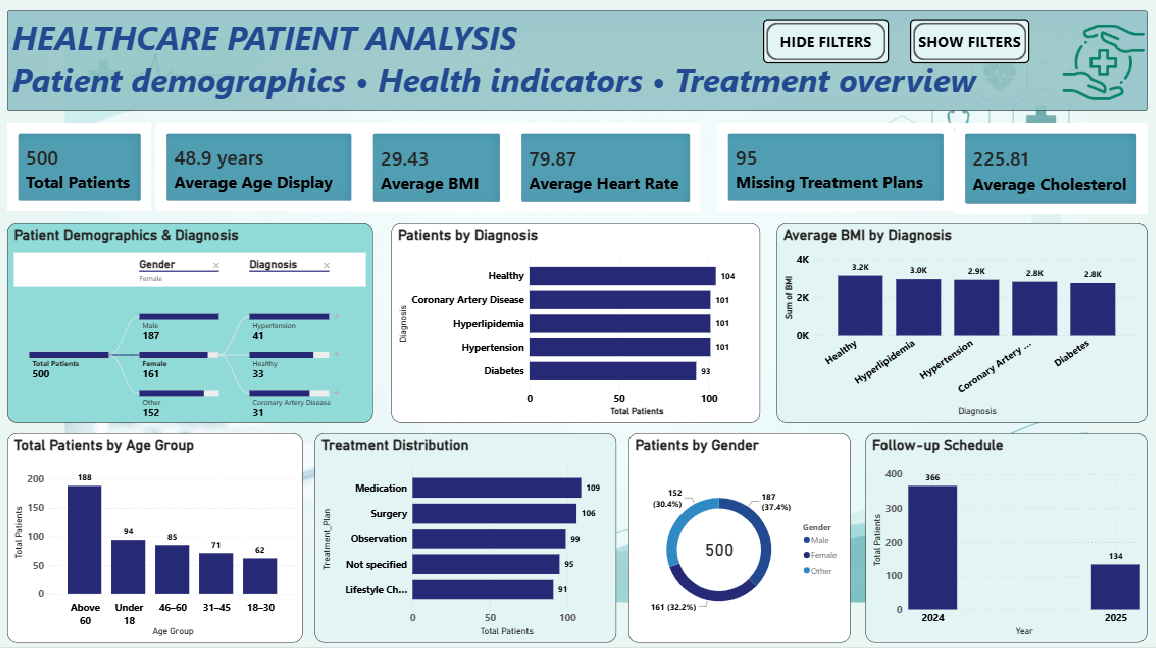

The dashboard page shown, as its layout file describes it:
{"tool":"powerbi","page":{"name":"Page 1","canvas":[1920,1080],"ordinal":0},"visuals":[{"type":"cardVisual","fields":{"Data":["healthcare_dataset.Total Patients"]},"box":[30,210,235,145],"z":0},{"type":"cardVisual","fields":{"Data":["healthcare_dataset.Average Age Display"]},"box":[272.5,210,320,145],"z":1000},{"type":"cardVisual","fields":{"Data":["healthcare_dataset.Average BMI"]},"box":[610,210,242.5,147.5],"z":2000},{"type":"cardVisual","fields":{"Data":["healthcare_dataset.Average Heart Rate"]},"box":[852.5,210,310,147.5],"z":3000},{"type":"cardVisual","fields":{"Data":["healthcare_dataset.Average Cholesterol"]},"box":[1577.5,210,315,150],"z":4000},{"type":"cardVisual","fields":{"Data":["healthcare_dataset.Missing Treatment Plans"]},"box":[1190,210,387.5,145],"z":5000},{"type":"barChart","title":"Patients by Diagnosis","fields":{"Category":["healthcare_dataset.Diagnosis"],"Y":["healthcare_dataset.Total Patients"]},"box":[657.5,375,602.5,332.5],"z":6000},{"type":"donutChart","title":"Patients by Gender","fields":{"Category":["healthcare_dataset.Gender"],"Y":["healthcare_dataset.Total Patients"]},"box":[1045,725,362.5,347.5],"z":7000},{"type":"clusteredColumnChart","title":"Average BMI by Diagnosis","fields":{"Category":["healthcare_dataset.Diagnosis"],"Y":["Sum(healthcare_dataset.BMI)"]},"box":[1287.5,375,605,332.5],"z":8000},{"type":"clusteredBarChart","title":"Treatment Distribution","fields":{"Category":["healthcare_dataset.Treatment_Plan"],"Y":["healthcare_dataset.Total Patients"]},"box":[532.5,725,492.5,347.5],"z":9000},{"type":"clusteredColumnChart","title":"Follow-up Schedule","fields":{"Category":["healthcare_dataset.Follow_Up_Date.Variation.Date Hierarchy.Year"],"Y":["healthcare_dataset.Total Patients"]},"box":[1432.5,725,460,347.5],"z":10000},{"type":"clusteredColumnChart","fields":{"Category":["healthcare_dataset.Age Group"],"Y":["healthcare_dataset.Total Patients"]},"box":[30,725,482.5,347.5],"z":11000},{"type":"decompositionTreeVisual","fields":{"Analyze":["healthcare_dataset.Total Patients"],"ExplainBy":["healthcare_dataset.Gender","healthcare_dataset.Diagnosis","healthcare_dataset.Treatment_Plan","healthcare_dataset.Age Group"]},"box":[30,375,597.5,332.5],"z":12000},{"type":"textbox","box":[30,22.5,1862.5,167.5],"z":13000},{"type":"image","box":[1722.5,37.5,197.5,142.5],"z":14000},{"type":"slicer","fields":{"Values":["healthcare_dataset.Gender"]},"box":[1200,35,167.5,70],"z":15000},{"type":"slicer","fields":{"Values":["healthcare_dataset.Treatment_Plan"]},"box":[972.5,35,227.5,72.5],"z":16000},{"type":"slicer","fields":{"Values":["healthcare_dataset.Age Group"]},"box":[1367.5,35,147.5,70],"z":17000},{"type":"slicer","fields":{"Values":["healthcare_dataset.Follow_Up_Date"]},"box":[1515,35,220,70],"z":18000}]}

Visuals, with their boxes in screenshot pixels (x1, y1, x2, y2), scaled from the page's 1920x1080 canvas onto the 1156x649 screenshot:
cardVisual - healthcare_dataset.Total Patients: [x1=18, y1=126, x2=160, y2=213]
cardVisual - healthcare_dataset.Average Age Display: [x1=164, y1=126, x2=357, y2=213]
cardVisual - healthcare_dataset.Average BMI: [x1=367, y1=126, x2=513, y2=215]
cardVisual - healthcare_dataset.Average Heart Rate: [x1=513, y1=126, x2=700, y2=215]
cardVisual - healthcare_dataset.Average Cholesterol: [x1=950, y1=126, x2=1139, y2=216]
cardVisual - healthcare_dataset.Missing Treatment Plans: [x1=716, y1=126, x2=950, y2=213]
"Patients by Diagnosis" barChart: [x1=396, y1=225, x2=759, y2=425]
"Patients by Gender" donutChart: [x1=629, y1=436, x2=847, y2=644]
"Average BMI by Diagnosis" clusteredColumnChart: [x1=775, y1=225, x2=1139, y2=425]
"Treatment Distribution" clusteredBarChart: [x1=321, y1=436, x2=617, y2=644]
"Follow-up Schedule" clusteredColumnChart: [x1=862, y1=436, x2=1139, y2=644]
clusteredColumnChart - healthcare_dataset.Age Group x healthcare_dataset.Total Patients: [x1=18, y1=436, x2=309, y2=644]
decompositionTreeVisual - healthcare_dataset.Total Patients x healthcare_dataset.Gender: [x1=18, y1=225, x2=378, y2=425]
textbox: [x1=18, y1=14, x2=1139, y2=114]
image: [x1=1037, y1=23, x2=1155, y2=108]
slicer - healthcare_dataset.Gender: [x1=722, y1=21, x2=823, y2=63]
slicer - healthcare_dataset.Treatment_Plan: [x1=586, y1=21, x2=722, y2=65]
slicer - healthcare_dataset.Age Group: [x1=823, y1=21, x2=912, y2=63]
slicer - healthcare_dataset.Follow_Up_Date: [x1=912, y1=21, x2=1045, y2=63]
